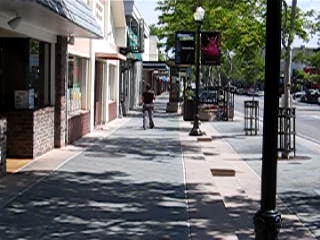person: (142, 84, 157, 131), (141, 84, 156, 131), (143, 84, 158, 131), (142, 83, 157, 130), (142, 85, 157, 132)
target_negative: (11, 4, 125, 52), (92, 182, 283, 208), (210, 140, 252, 174), (68, 198, 268, 205), (222, 114, 257, 128), (284, 184, 286, 186)
